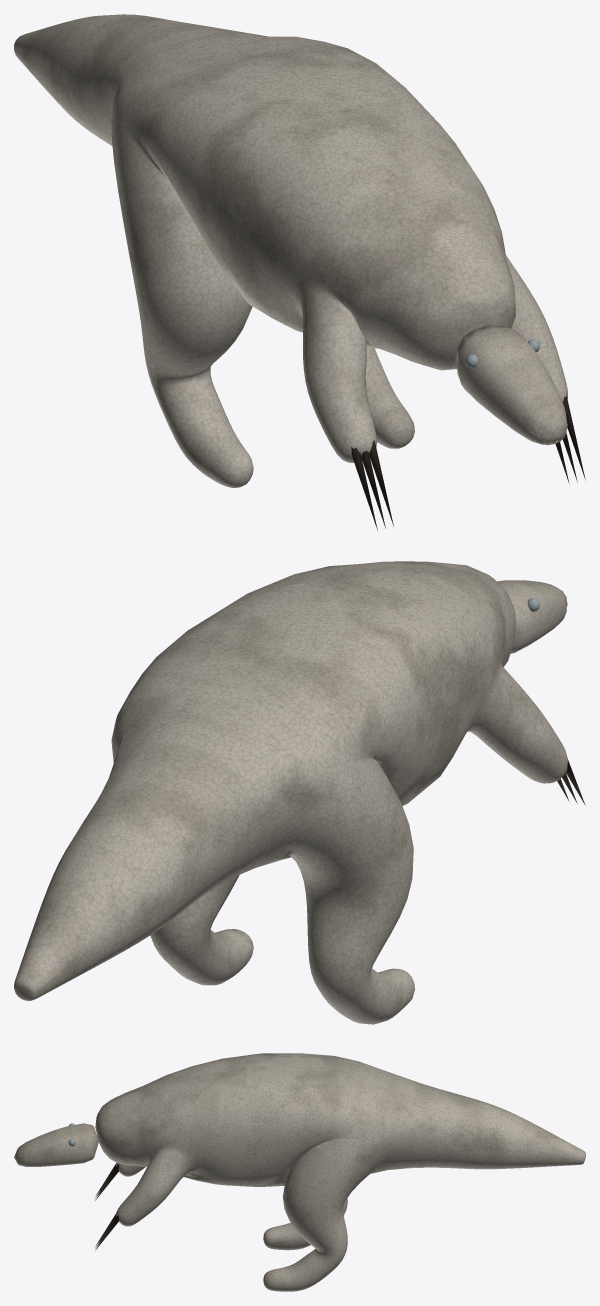
Rendered from eva_0.glb.
3 views of the same model, one above another, from view 1: azimuth 30°, elevation 25°; view 2: azimuth 150°, elevation 25°; view 3: azimuth 270°, elevation 25° (orthographic). The views are drawn at different scales.
Visible parts, largest first — view 1: eva_0; view 2: eva_0; view 3: eva_0.
Part boxes in pixels (bbox=[...]): eva_0: bbox=[14, 14, 585, 530]; eva_0: bbox=[14, 561, 585, 1024]; eva_0: bbox=[14, 1053, 585, 1291].
Size of the model in its own units: 2.62 by 3.61 by 9.19.
Materials: 4 (2 with a texture image).
